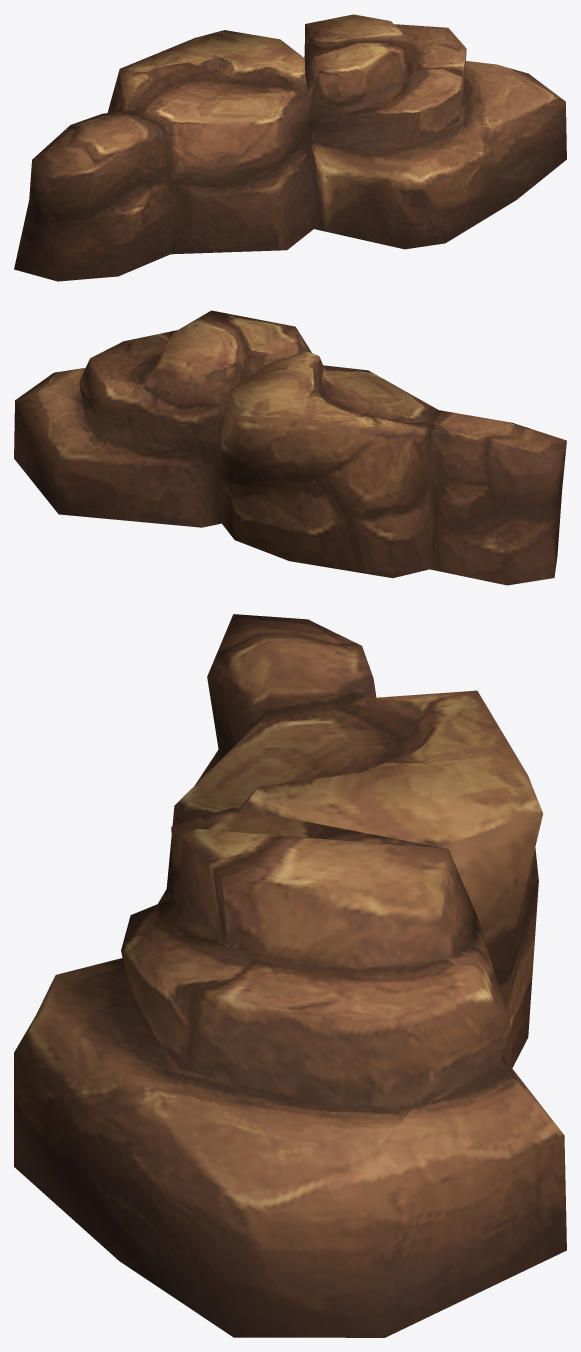
File: ShiTou02.FBX
3 renders of one model, top to bottom at view 1: azimuth 30°, elevation 25°; view 2: azimuth 150°, elevation 25°; view 3: azimuth 270°, elevation 25°, orthographic. The views are drawn at different scales.
Visible parts, largest first — view 1: ShiTou02; view 2: ShiTou02; view 3: ShiTou02.
Boxes of the visible parts, bbox=[...] form: ShiTou02: bbox=[14, 14, 566, 281]; ShiTou02: bbox=[14, 310, 566, 585]; ShiTou02: bbox=[14, 614, 566, 1337].
Size of the model in its own units: 238 by 68.01 by 109.
